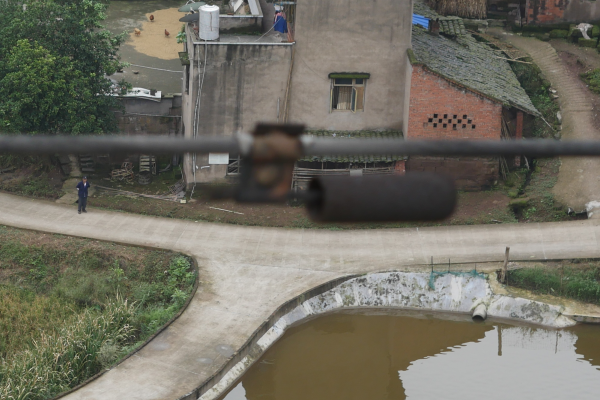damper_defect: (176, 115, 460, 229)
